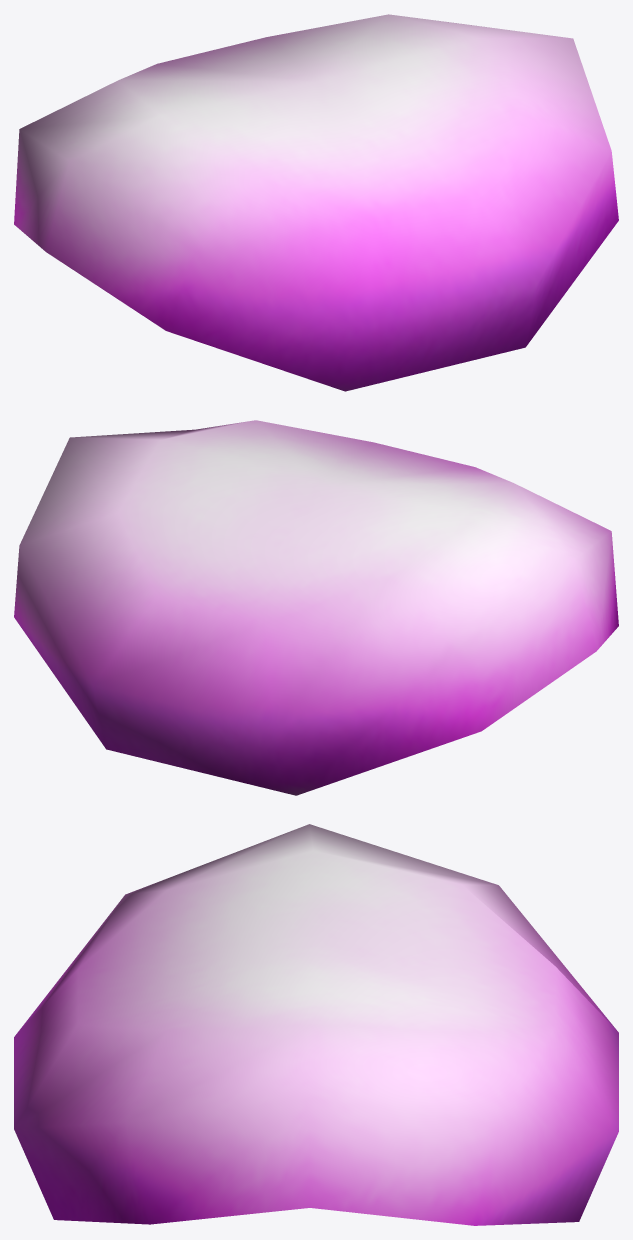
Rendered from Avatar_mushroom_03.fbx.
The picture shows the model from 3 angles, top to bottom: view 1: azimuth 30°, elevation 25°; view 2: azimuth 150°, elevation 25°; view 3: azimuth 270°, elevation 25°; orthographic projection. The views are drawn at different scales.
Visible parts, largest first — view 1: Avatar_mushroom_03; view 2: Avatar_mushroom_03; view 3: Avatar_mushroom_03.
Part boxes in pixels (x1,y1,x2,y2): Avatar_mushroom_03: (14, 14, 618, 391); Avatar_mushroom_03: (14, 420, 618, 795); Avatar_mushroom_03: (14, 824, 618, 1225).
Size of the model in its own units: 44.18 by 15.92 by 37.49.
